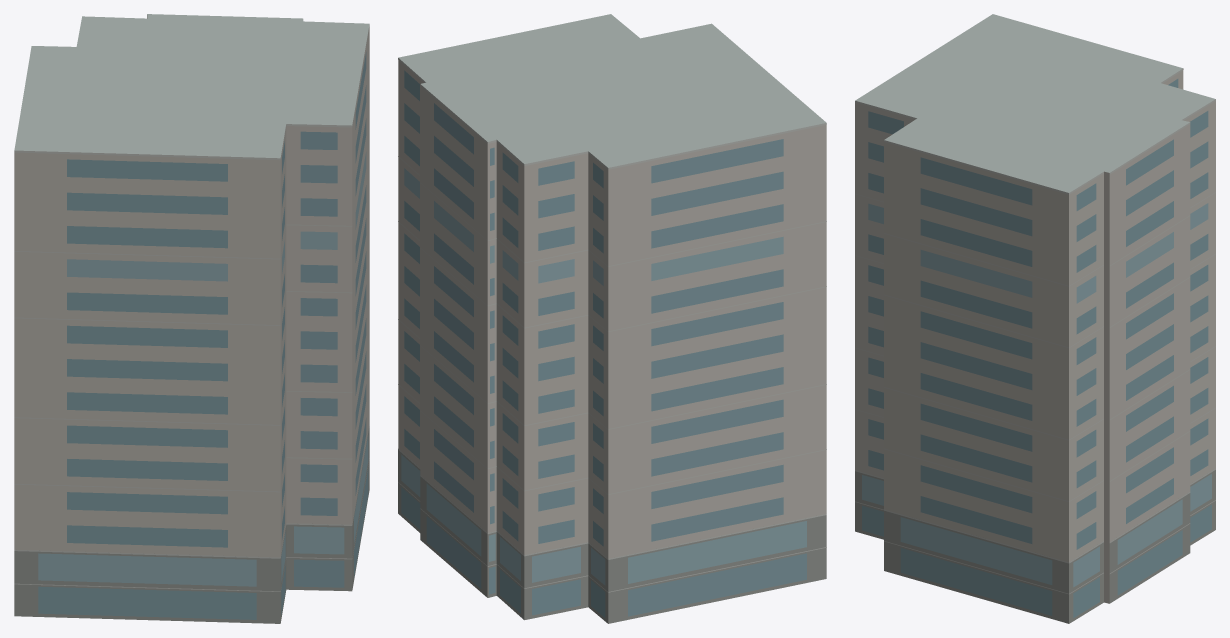
The model's file is survey-upis-32732969.glb.
3 renders of one model, left to right at view 1: azimuth 30°, elevation 25°; view 2: azimuth 150°, elevation 25°; view 3: azimuth 270°, elevation 25°, orthographic. The views are drawn at different scales.
Parts seen in each view (by area): view 1: survey-upis-32732969.tmp; view 2: survey-upis-32732969.tmp; view 3: survey-upis-32732969.tmp.
Part boxes in pixels (box(x1,y1,x2,y2)): survey-upis-32732969.tmp: box(14, 14, 369, 623); survey-upis-32732969.tmp: box(398, 14, 826, 623); survey-upis-32732969.tmp: box(855, 14, 1215, 623).
Size of the model in its own units: 51.61 by 57.9 by 43.96.
